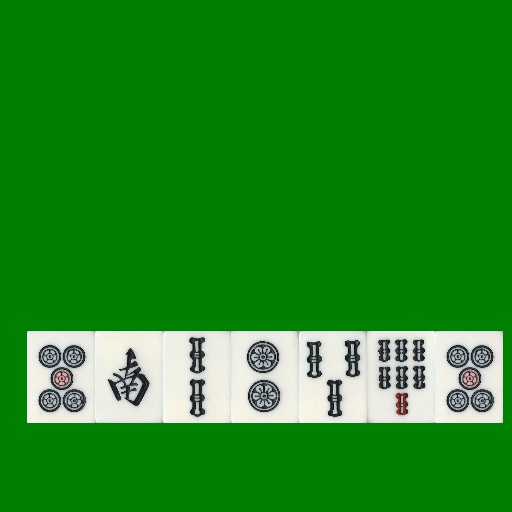2p: (231, 331, 299, 423)
2s: (163, 331, 231, 423)
3s: (299, 331, 367, 423)
5p: (27, 331, 95, 423), (435, 331, 503, 423)
7s: (367, 331, 435, 423)
south: (95, 331, 163, 423)
